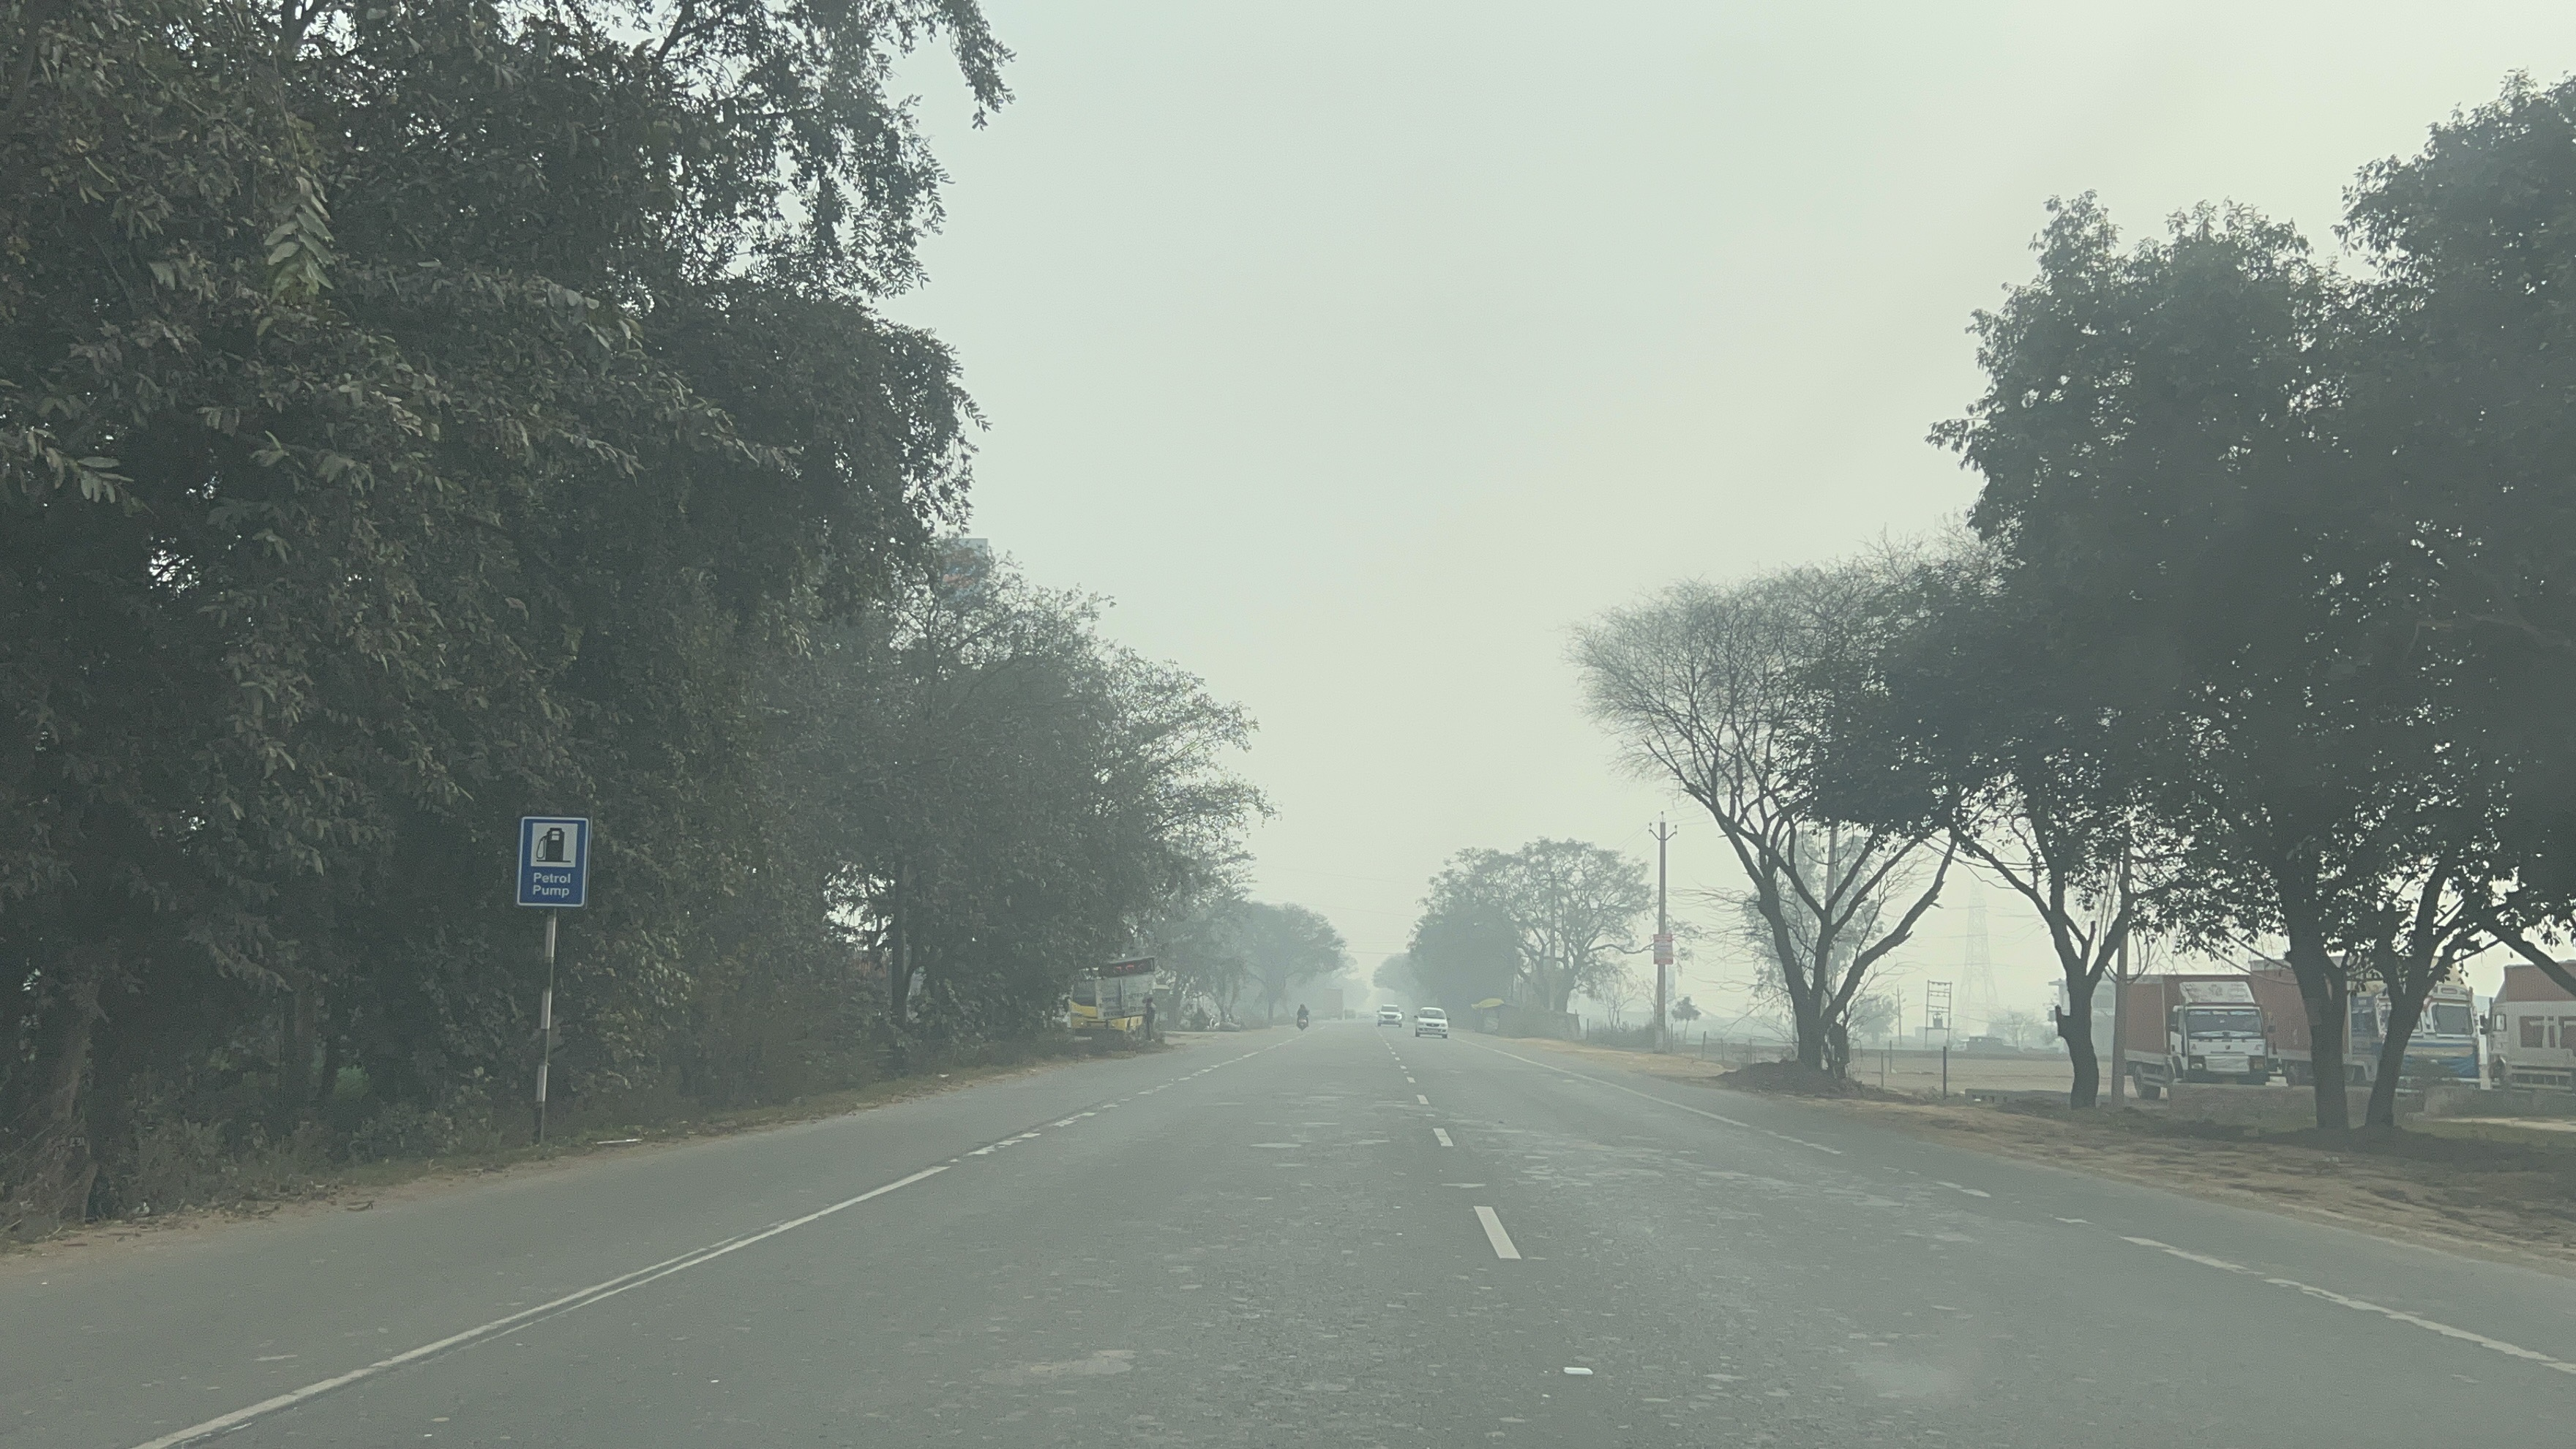Informatory: (508, 801, 596, 925)
